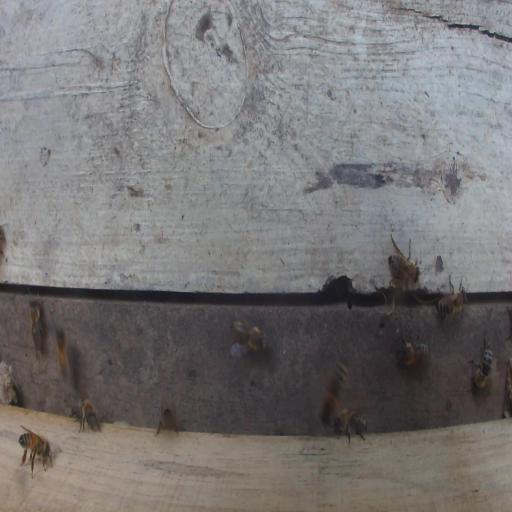bee: (18, 423, 54, 480), (436, 272, 471, 330), (230, 308, 269, 360), (387, 231, 421, 290), (333, 403, 371, 445), (466, 332, 493, 391), (394, 330, 429, 369), (25, 298, 46, 355), (78, 392, 102, 435), (155, 395, 179, 437), (56, 327, 70, 386)
